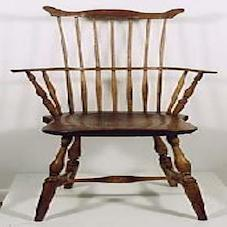chair: (12, 2, 218, 223)
